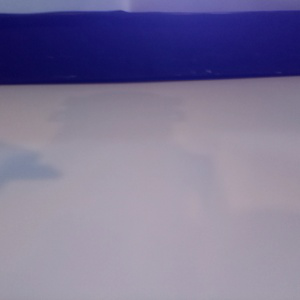zone: (1, 9, 300, 85)
